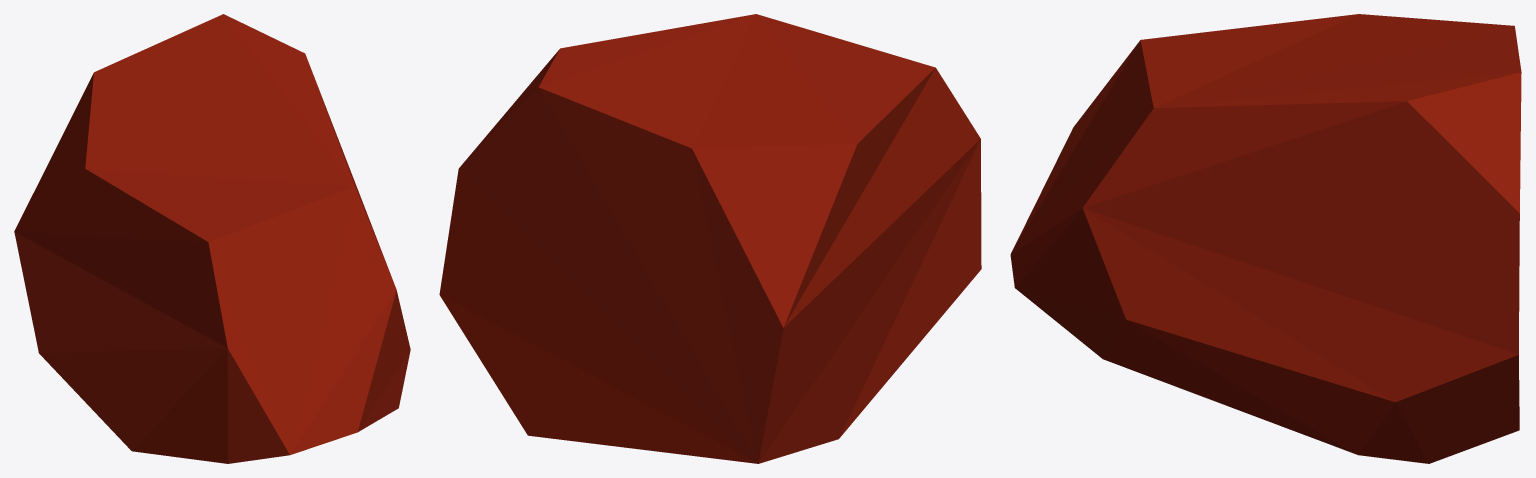
Rendered from SM_Simple_Rock_08.fbx.
3 views of the same model, side by side, from view 1: azimuth 30°, elevation 25°; view 2: azimuth 150°, elevation 25°; view 3: azimuth 270°, elevation 25° (orthographic). The views are drawn at different scales.
Visible parts, largest first — view 1: SM_Simple_Rock_08; view 2: SM_Simple_Rock_08; view 3: SM_Simple_Rock_08.
Boxes of the visible parts, left/top/right/bottom form: SM_Simple_Rock_08: left=14, top=14, right=410, bottom=463; SM_Simple_Rock_08: left=439, top=14, right=981, bottom=463; SM_Simple_Rock_08: left=1010, top=14, right=1521, bottom=463.
Size of the model in its own units: 19.24 by 20.74 by 24.89.
